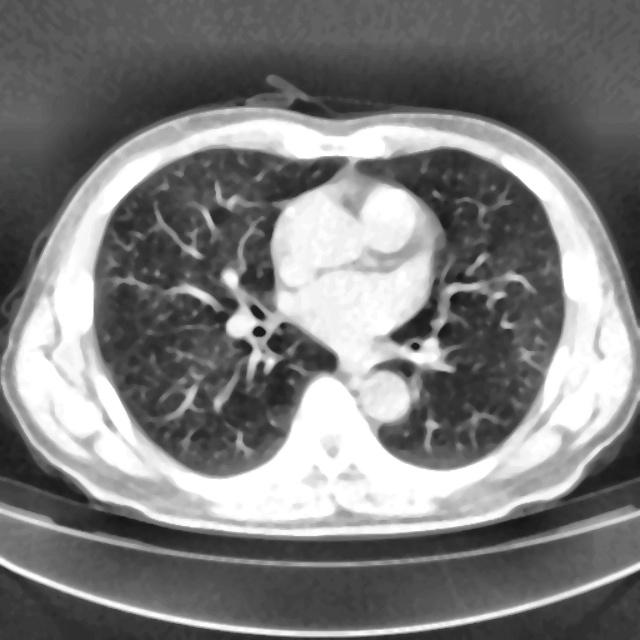covid: (1, 82, 638, 539)
